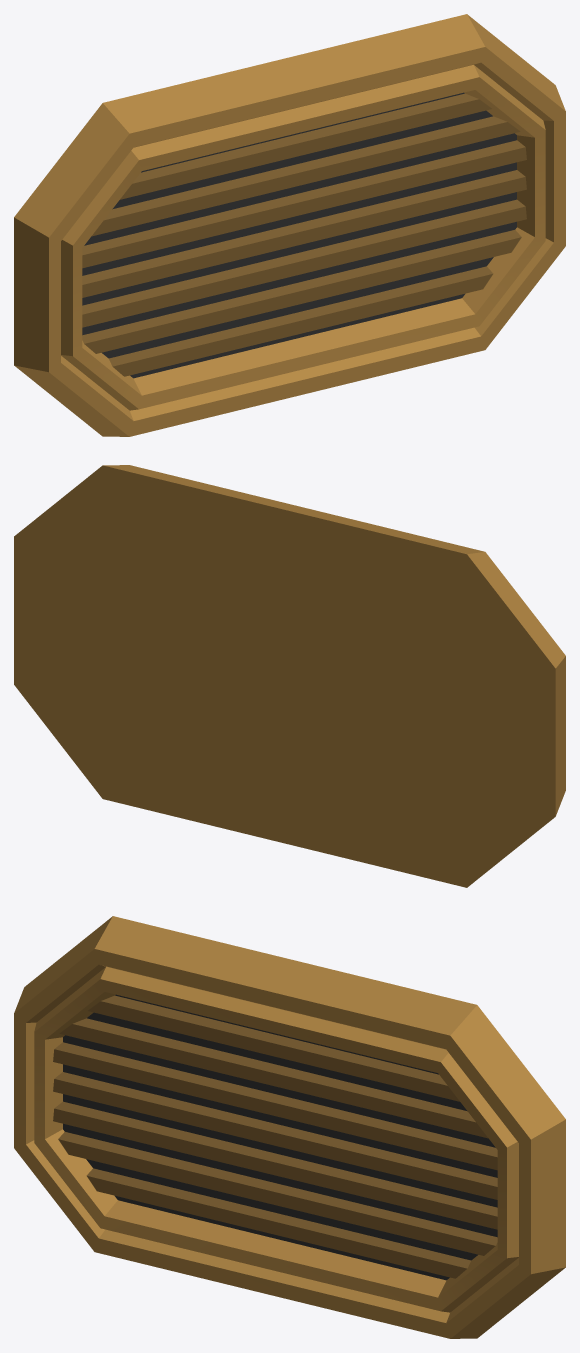
File: details_vent_1.glb
3 views of the same model, one above another, from view 1: azimuth 30°, elevation 25°; view 2: azimuth 150°, elevation 25°; view 3: azimuth 330°, elevation 25° (orthographic).
Parts seen in each view (by area): view 1: Details_Vent_1; view 2: Details_Vent_1; view 3: Details_Vent_1.
Boxes of the visible parts, <box> form: Details_Vent_1: <box>14,14,565,436</box>; Details_Vent_1: <box>14,465,565,887</box>; Details_Vent_1: <box>14,916,565,1338</box>.
Bounding box in the file's own units: 0.5265 × 0.3099 × 0.0413.
